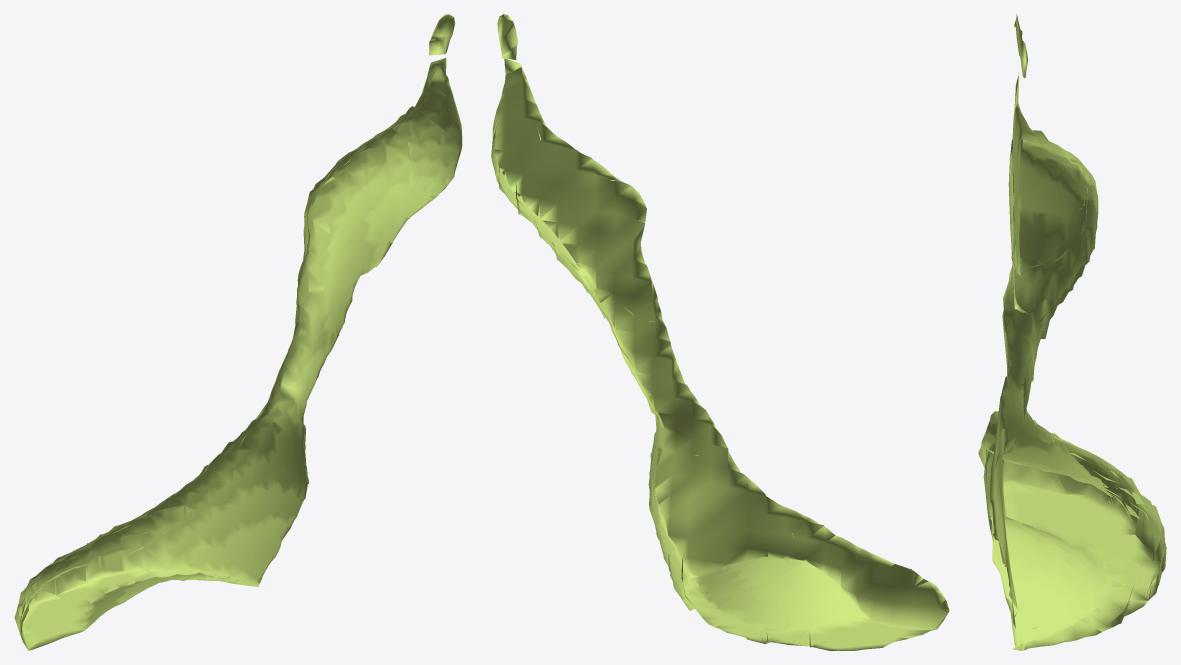
3 views of the same model, side by side, from view 1: azimuth 30°, elevation 25°; view 2: azimuth 150°, elevation 25°; view 3: azimuth 270°, elevation 25° (orthographic). The views are drawn at different scales.
Visible parts, largest first — view 1: Switch_Switch_osgPicked_gmeGeoEntityGeode_Geometry_0, Switch_Switch_osgPicked_gmeGeoEntityGeode_Geometry_Geometry_; view 2: Switch_Switch_osgPicked_gmeGeoEntityGeode_Geometry_0, Switch_Switch_osgPicked_gmeGeoEntityGeode_Geometry_Geometry_; view 3: Switch_Switch_osgPicked_gmeGeoEntityGeode_Geometry_0, Switch_Switch_osgPicked_gmeGeoEntityGeode_Geometry_Geometry_.
Part boxes in pixels (box(x1,y1,x2,y2)): Switch_Switch_osgPicked_gmeGeoEntityGeode_Geometry_0: box(14, 57, 462, 650); Switch_Switch_osgPicked_gmeGeoEntityGeode_Geometry_Geometry_: box(429, 14, 455, 55); Switch_Switch_osgPicked_gmeGeoEntityGeode_Geometry_0: box(491, 58, 949, 650); Switch_Switch_osgPicked_gmeGeoEntityGeode_Geometry_Geometry_: box(497, 14, 518, 59); Switch_Switch_osgPicked_gmeGeoEntityGeode_Geometry_0: box(978, 73, 1166, 650); Switch_Switch_osgPicked_gmeGeoEntityGeode_Geometry_Geometry_: box(1014, 14, 1027, 77).
Size of what is drawn, in the model's own units: 12223 by 13568 by 3012.
